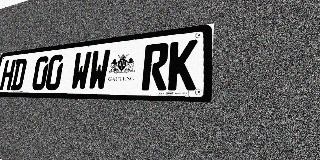0: (44, 54, 64, 90), (31, 56, 50, 90)
D: (10, 58, 27, 90)
H: (0, 59, 16, 90)
K: (167, 39, 198, 90)
R: (141, 42, 170, 90)
W: (87, 49, 111, 90), (70, 51, 92, 90)
